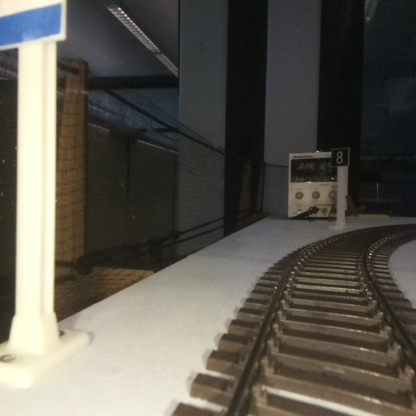black-info-8: (332, 149, 347, 228)
